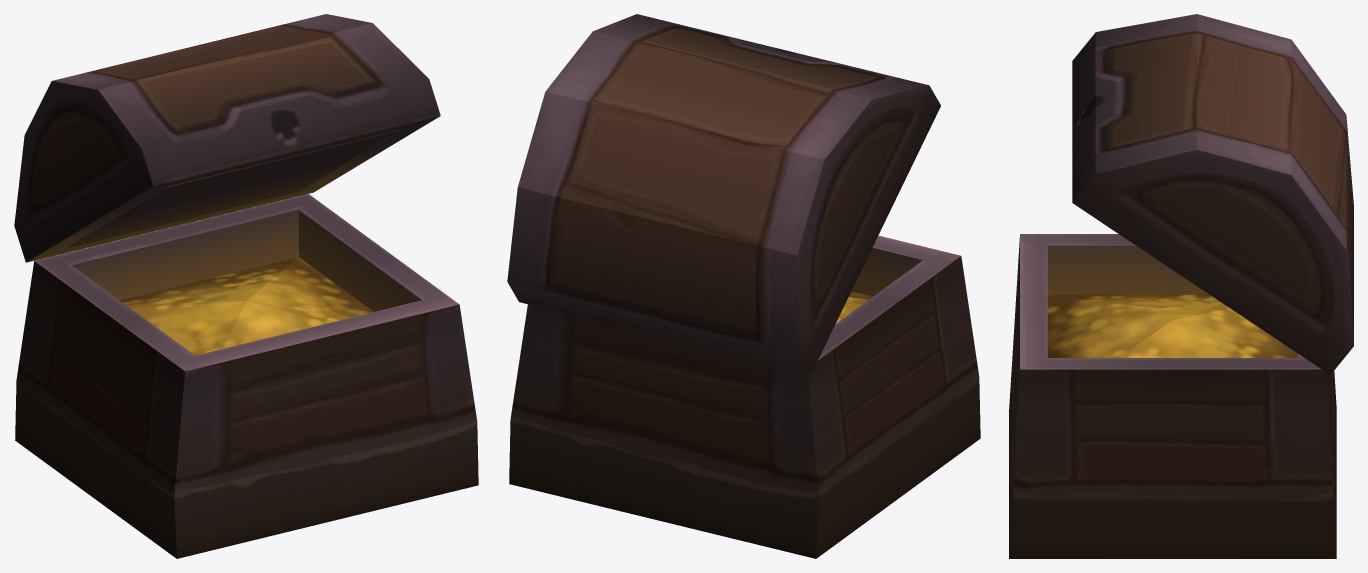
The model's file is treasure_chest_v2.fbx.
The picture shows the model from 3 angles, left to right: view 1: azimuth 30°, elevation 25°; view 2: azimuth 150°, elevation 25°; view 3: azimuth 270°, elevation 25°; orthographic projection.
Parts seen in each view (by area): view 1: Chest.001_Cube.005, Lid.001_Cube.004; view 2: Lid.001_Cube.004, Chest.001_Cube.005; view 3: Chest.001_Cube.005, Lid.001_Cube.004.
Part boxes in pixels (bbox=[...]): Chest.001_Cube.005: bbox=[15, 194, 478, 558]; Lid.001_Cube.004: bbox=[14, 14, 440, 262]; Lid.001_Cube.004: bbox=[507, 14, 940, 373]; Chest.001_Cube.005: bbox=[509, 235, 980, 558]; Chest.001_Cube.005: bbox=[1009, 234, 1336, 558]; Lid.001_Cube.004: bbox=[1072, 14, 1353, 374].
Bounding box in the file's own units: 124 × 155 × 121.
